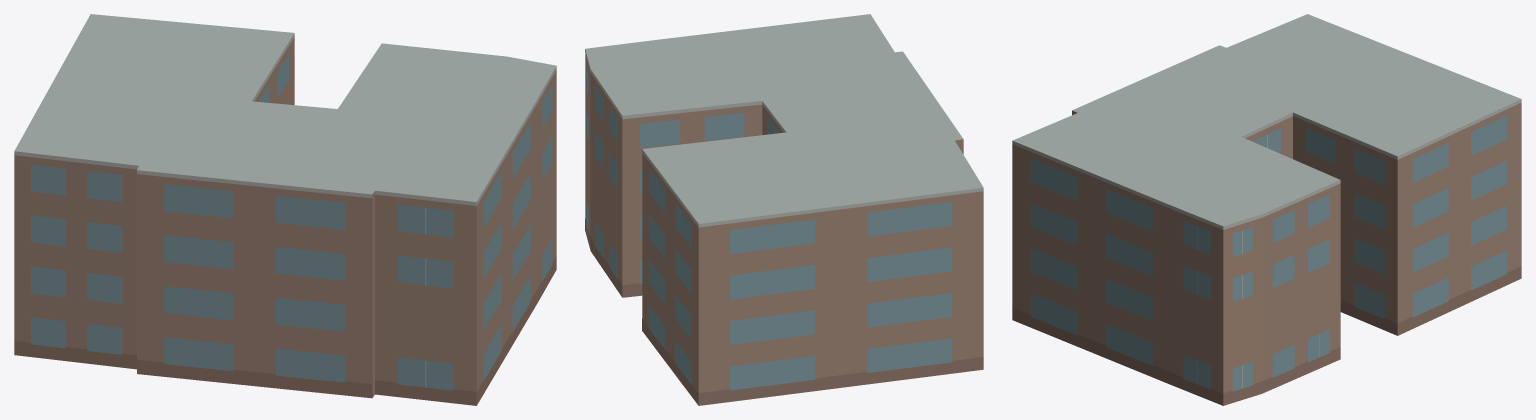
The model's file is survey-upis-33004372.glb.
3 views of the same model, side by side, from view 1: azimuth 30°, elevation 25°; view 2: azimuth 150°, elevation 25°; view 3: azimuth 270°, elevation 25° (orthographic). The views are drawn at different scales.
Parts seen in each view (by area): view 1: survey-upis-33004372.tmp; view 2: survey-upis-33004372.tmp; view 3: survey-upis-33004372.tmp.
Part boxes in pixels (<box>): survey-upis-33004372.tmp: <box>14,14,556,405</box>; survey-upis-33004372.tmp: <box>585,14,983,405</box>; survey-upis-33004372.tmp: <box>1012,14,1521,405</box>.
Bounding box in the file's own units: 32.25 × 12.7 × 32.67.
